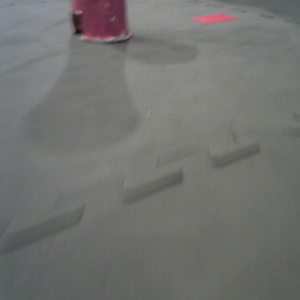middle: (66, 1, 134, 45)
